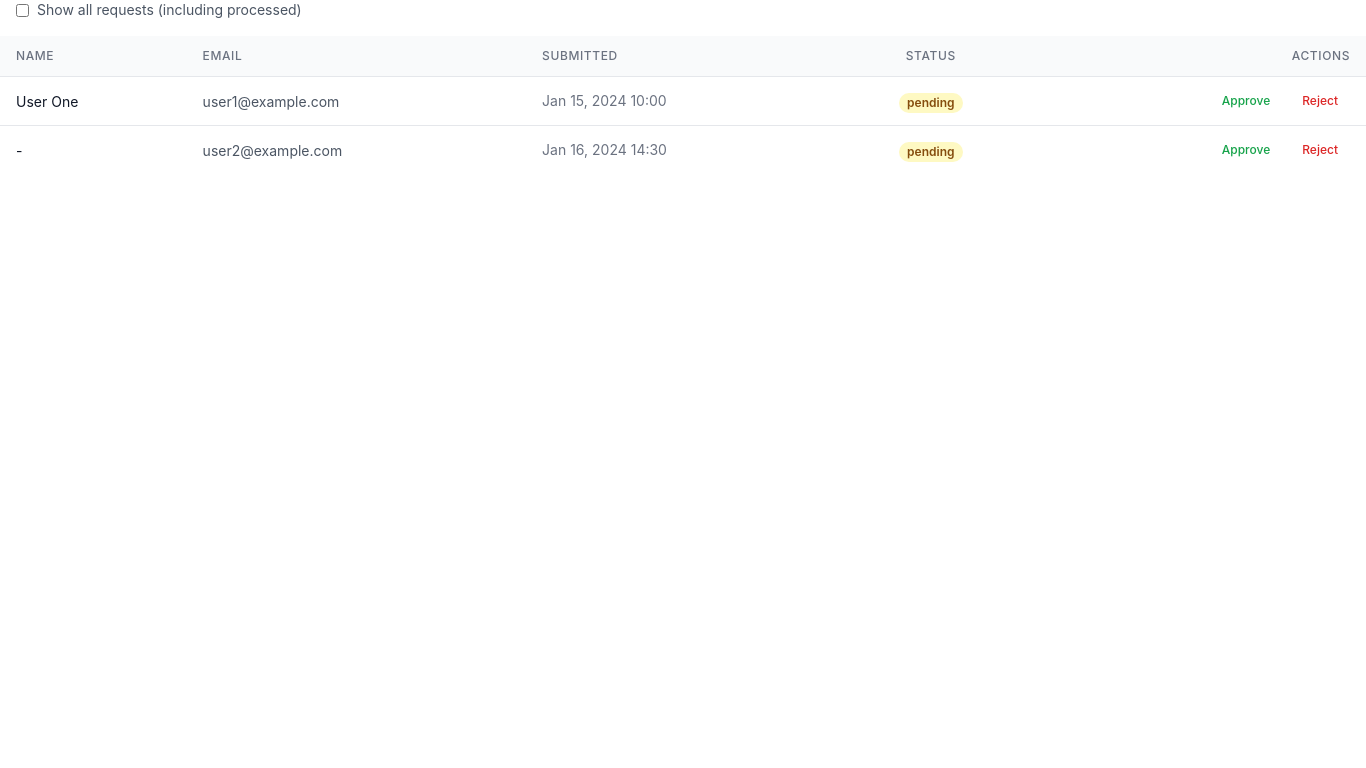
Test: RegistrationRequests › should open reject modal when reject is clicked
This screenshot has width=1366, height=768.
Expected: the text "user1@example.com" is shown, x1=203 y1=93 x2=339 y2=110
Click the button "Reject" in the row of "User One" at (1320, 101), box x1=1290 y1=89 x2=1350 y2=113
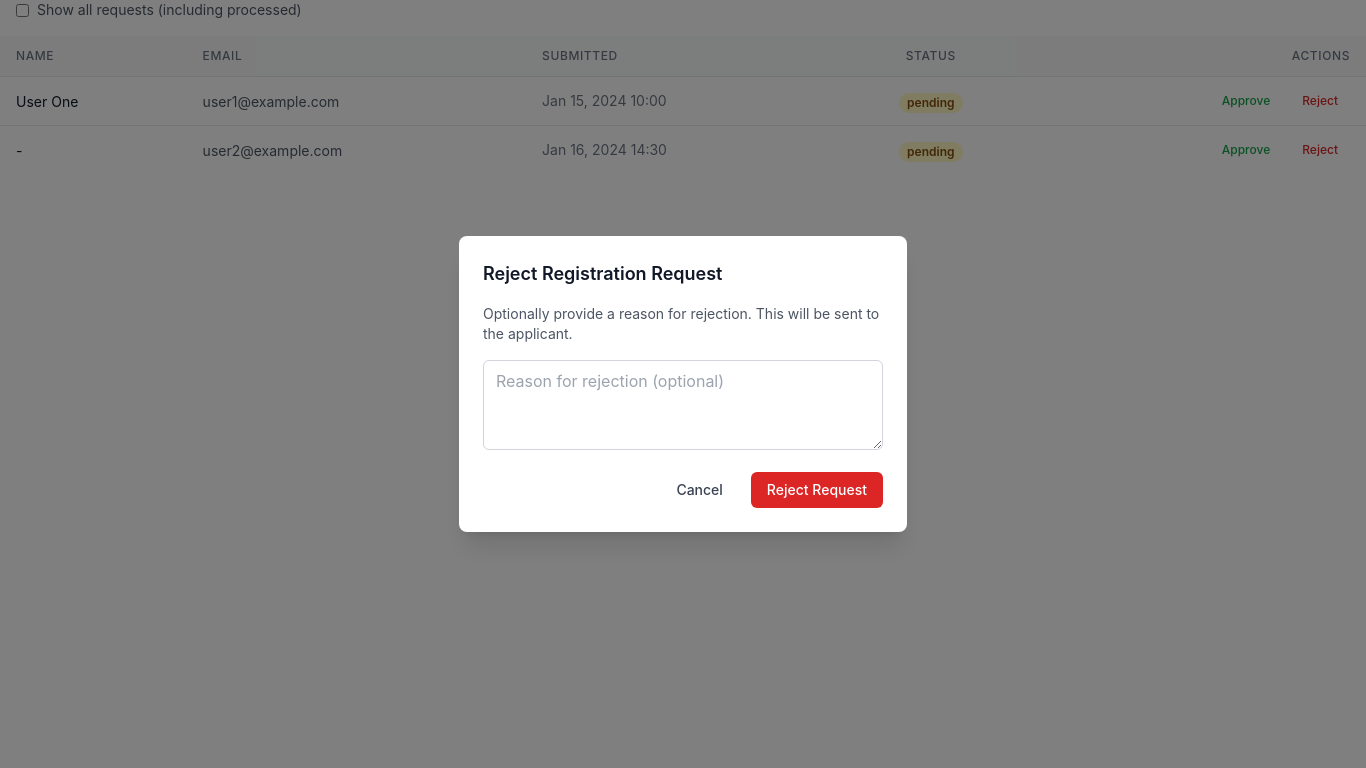
Now the heading "Reject Registration Request" is shown, box x1=483 y1=263 x2=722 y2=284
Now the text box with placeholder "Reason for rejection (optional)" is shown, box x1=483 y1=360 x2=883 y2=450
